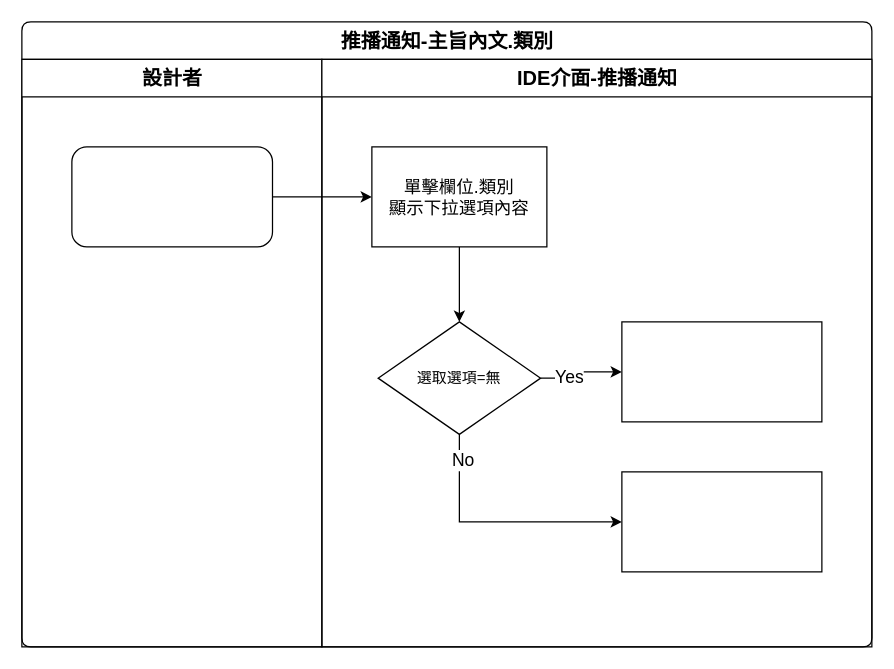
This 894x669 diagram has some shape labels left out. Here are the shapes that lost their labels. From the top down, the box of each, then its label:
(71, 146, 272, 247): 駐留<推播通知>加註介面 進入編輯模式
(621, 321, 822, 422): 清空欄位.檢視表、過濾 並除能上述欄位
(621, 471, 822, 572): 將欄位.檢視表、過濾致
